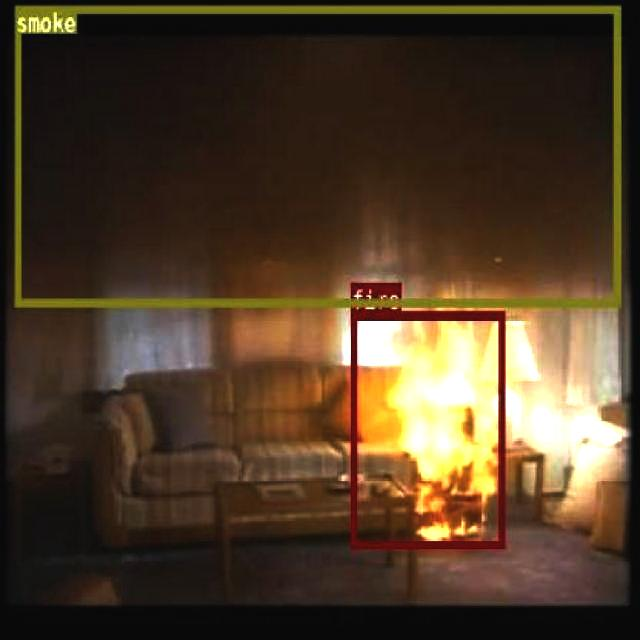fire: (351, 309, 504, 548)
smoke: (14, 3, 618, 306)
